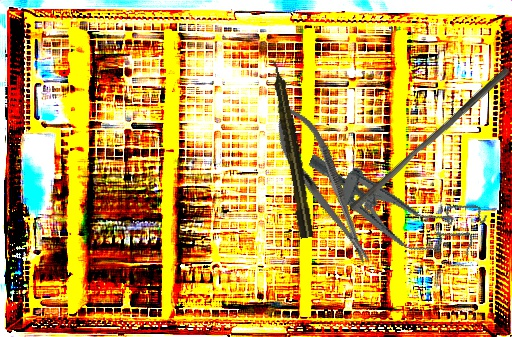Handpiece: (267, 58, 316, 240)
Needle Holder: (260, 92, 386, 274)
Pusher: (348, 60, 511, 218)
Speculum: (293, 141, 490, 272)
